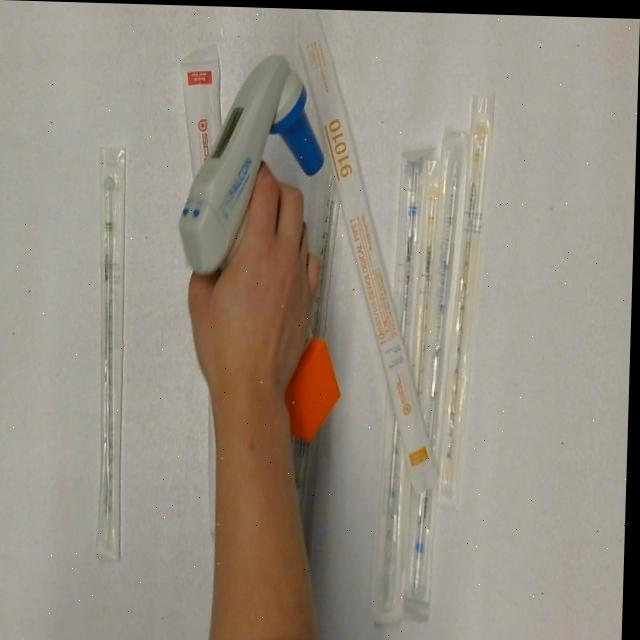Pipette Controller: (175, 46, 353, 442)
Serelogical Pipet 1 mL: (439, 90, 499, 506), (411, 154, 444, 389)
Serelogical Pipet 10 mL: (285, 12, 452, 491)
Serelogical Pipet 2 mL: (89, 138, 139, 568)
Serelogical Pipet 25 mL: (172, 38, 229, 178)
Serelogical Pipet 5 mL: (407, 126, 472, 605), (374, 146, 429, 627)
